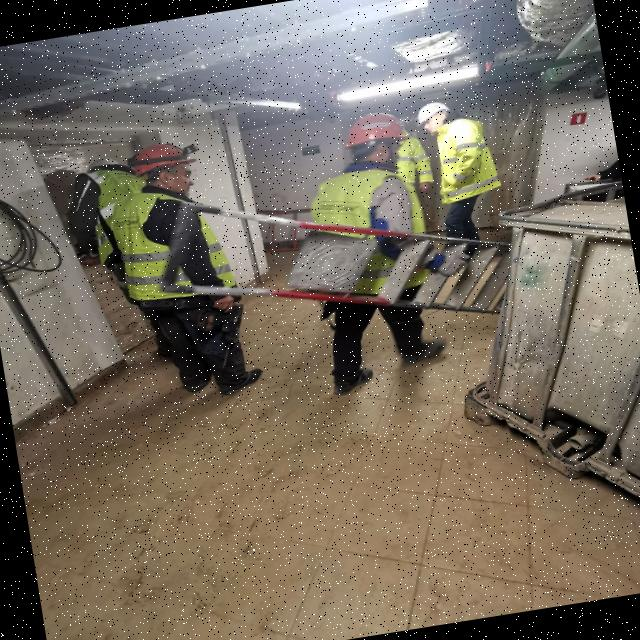Helmet: (337, 111, 415, 155), (128, 138, 204, 181), (82, 153, 126, 179), (417, 102, 456, 129)
Jacket: (108, 178, 214, 313), (319, 155, 412, 229), (436, 118, 493, 204), (88, 172, 137, 261), (405, 138, 434, 191)
